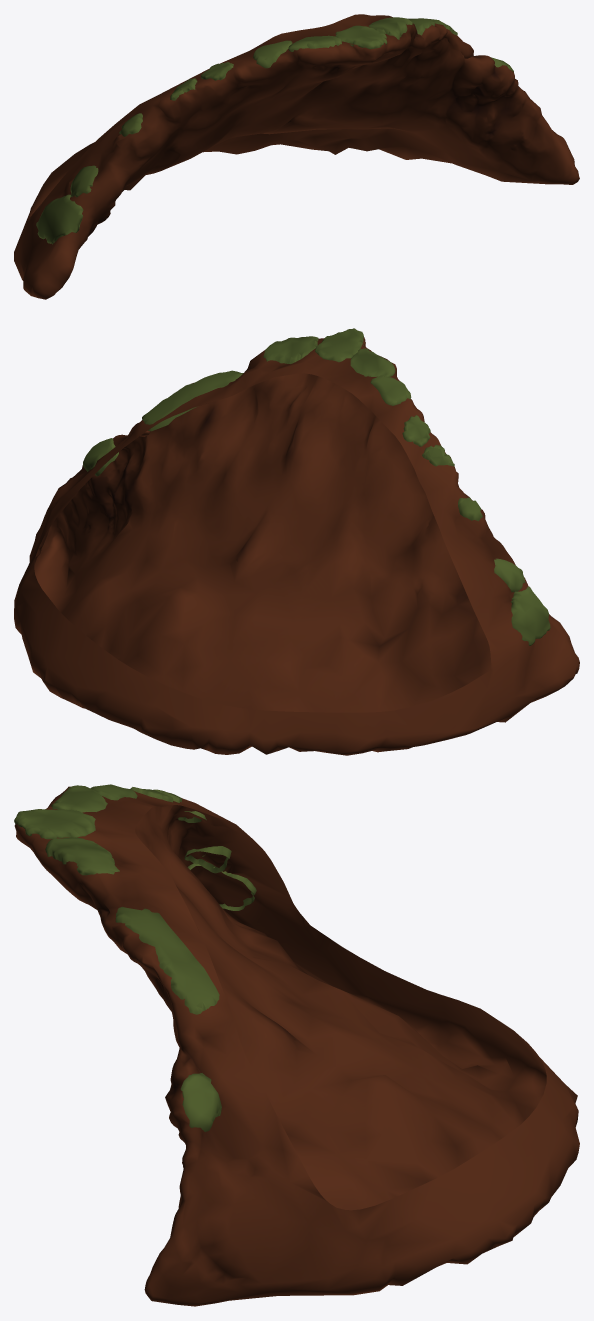
Rendered from env_excavationsite_mountain01.fbx.
3 views of the same model, one above another, from view 1: azimuth 30°, elevation 25°; view 2: azimuth 150°, elevation 25°; view 3: azimuth 270°, elevation 25° (orthographic). The views are drawn at different scales.
Visible parts, largest first — view 1: lod0_env_excavationsite_mountain01.007, lod0_env_excavationsite_mountaingrass01_grass.001; view 2: lod0_env_excavationsite_mountain01.007, lod0_env_excavationsite_mountaingrass01_grass.001; view 3: lod0_env_excavationsite_mountain01.007, lod0_env_excavationsite_mountaingrass01_grass.001.
Boxes of the visible parts, box(x1,y1,x2,y2) form: lod0_env_excavationsite_mountain01.007: box(14, 14, 579, 299); lod0_env_excavationsite_mountaingrass01_grass.001: box(36, 17, 513, 244); lod0_env_excavationsite_mountain01.007: box(14, 337, 579, 755); lod0_env_excavationsite_mountaingrass01_grass.001: box(83, 328, 550, 645); lod0_env_excavationsite_mountain01.007: box(14, 786, 579, 1306); lod0_env_excavationsite_mountaingrass01_grass.001: box(14, 784, 256, 1131).
Size of the model in its own units: 2506 by 1183 by 1701.
